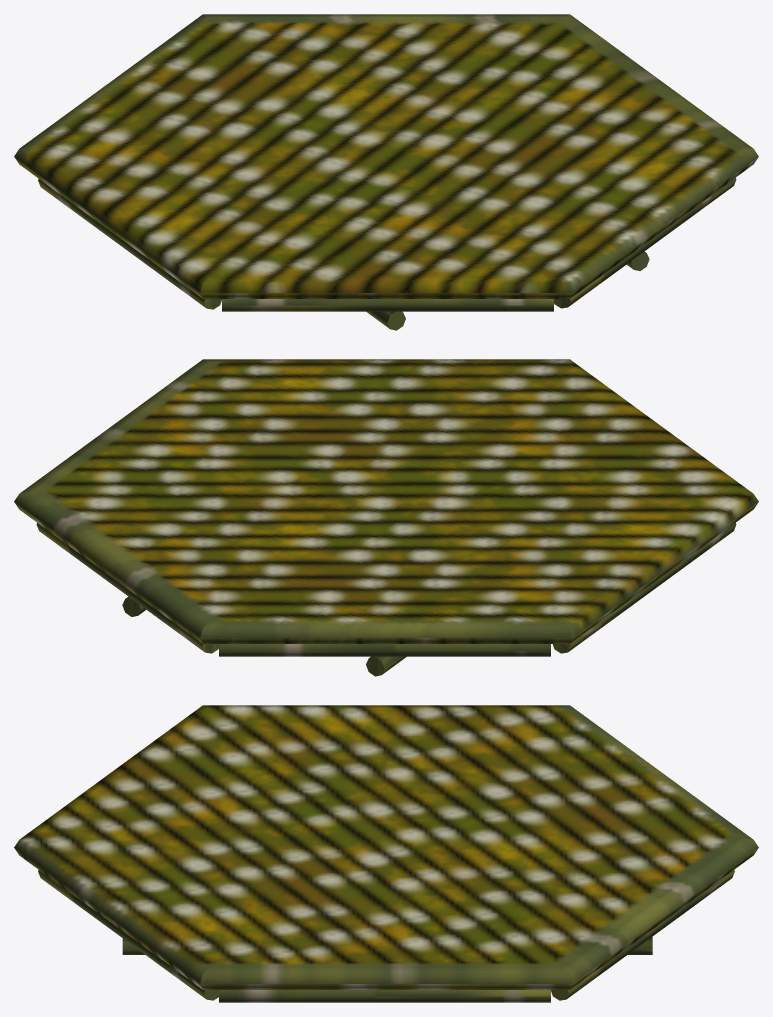
Rendered from HexPlatform_d.fbx.
3 views of the same model, one above another, from view 1: azimuth 30°, elevation 25°; view 2: azimuth 150°, elevation 25°; view 3: azimuth 270°, elevation 25° (orthographic).
Visible parts, largest first — view 1: HexagonPlatform; view 2: HexagonPlatform; view 3: HexagonPlatform.
Boxes of the visible parts, bbox=[...] form: HexagonPlatform: bbox=[14, 14, 758, 330]; HexagonPlatform: bbox=[14, 359, 758, 676]; HexagonPlatform: bbox=[14, 705, 758, 1002].
Size of the model in its own units: 315 by 30.77 by 364.
